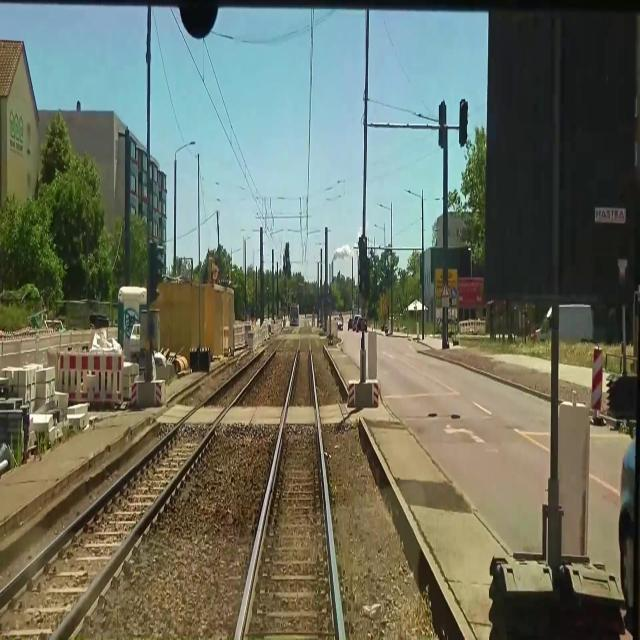rail-track: (0, 332, 284, 639), (239, 323, 339, 639)
